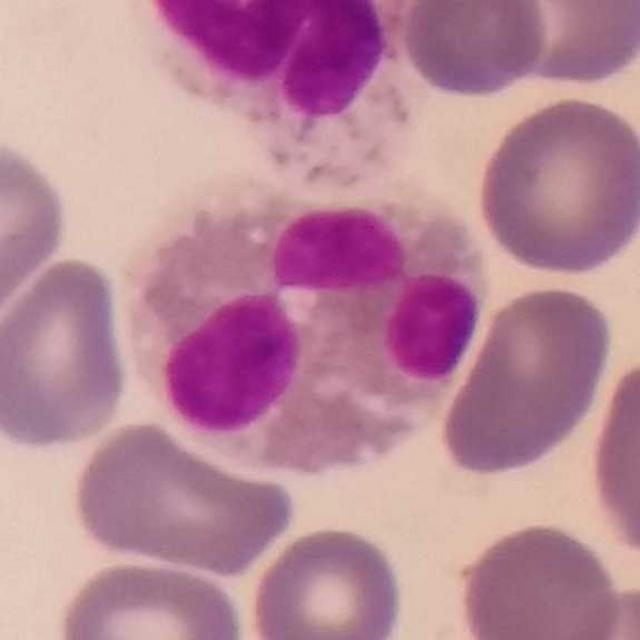eosino: (123, 173, 501, 473)
